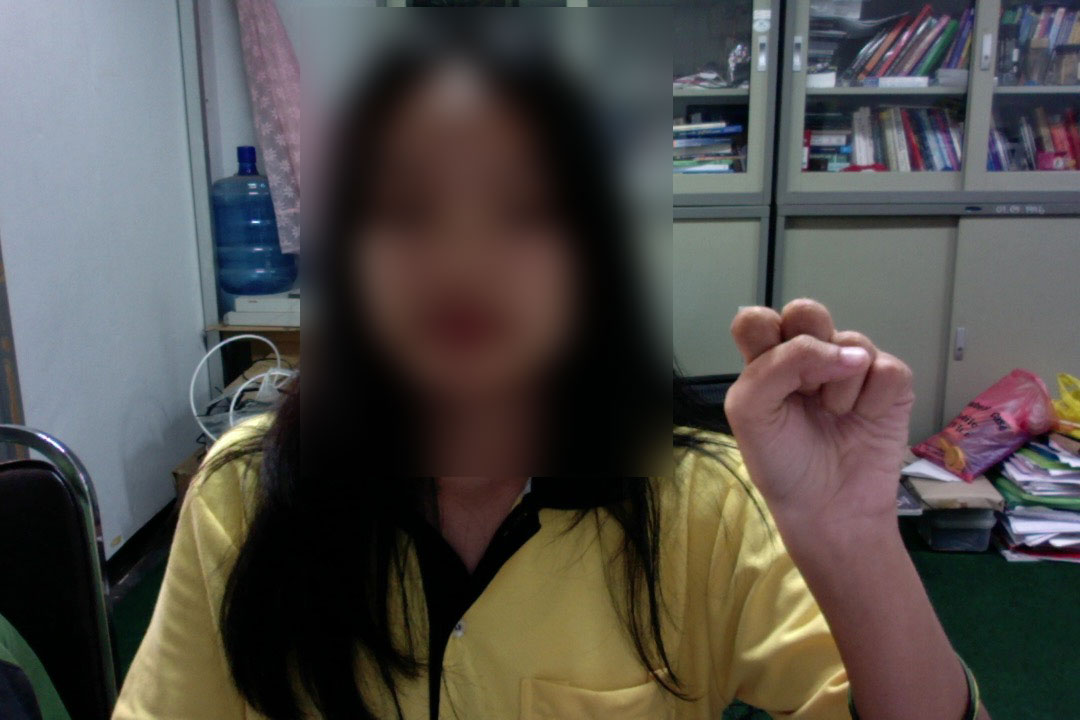sor: (719, 287, 921, 553)
